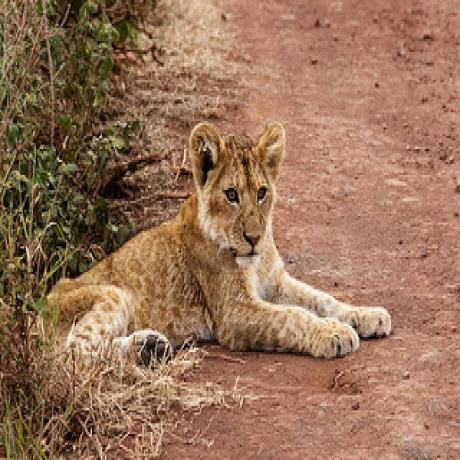Lion: (37, 119, 392, 384)
